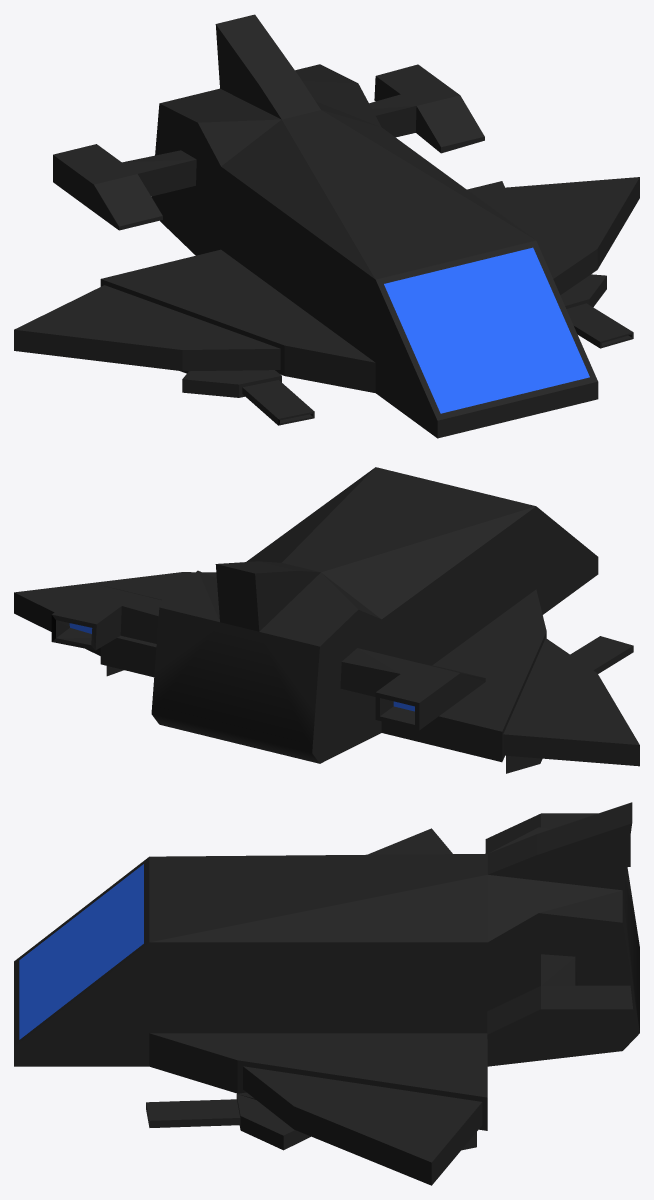
The model's file is Fighter 1.FBX.
3 renders of one model, top to bottom at view 1: azimuth 30°, elevation 25°; view 2: azimuth 150°, elevation 25°; view 3: azimuth 270°, elevation 25°, orthographic. The views are drawn at different scales.
Parts seen in each view (by area): view 1: Fighter 1; view 2: Fighter 1; view 3: Fighter 1.
Part boxes in pixels (x1,y1,x2,y2): Fighter 1: [14, 14, 639, 438]; Fighter 1: [14, 467, 639, 773]; Fighter 1: [14, 802, 639, 1185].
Size of the model in its own units: 11.69 by 3.72 by 9.25.
